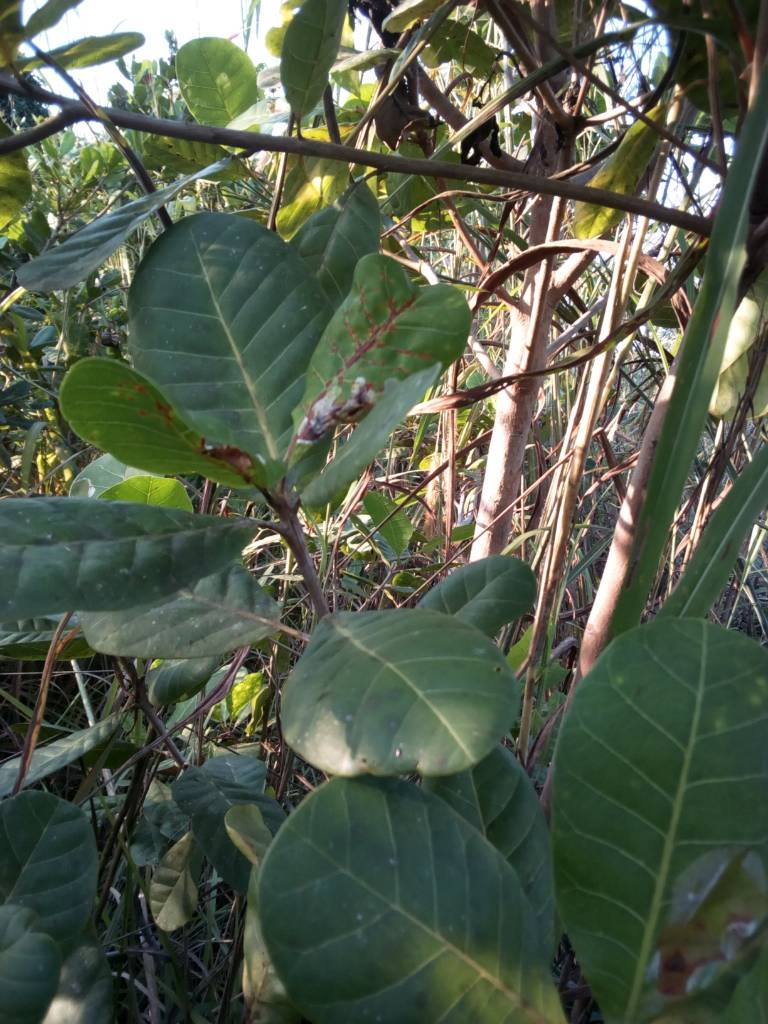Dysdercus wolkerii: (282, 244, 483, 464)
